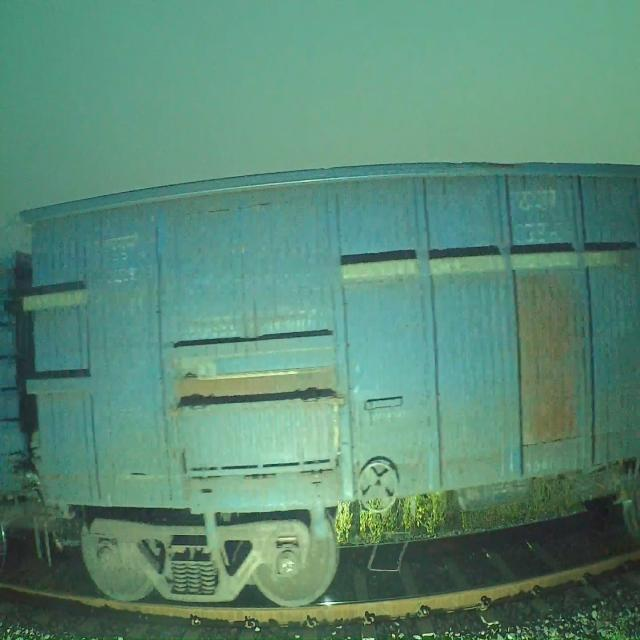WAgon-uic: (20, 159, 640, 606), (0, 251, 74, 560)
